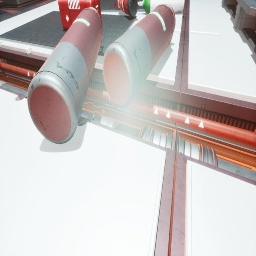0: (138, 0, 185, 14)
FireExtinguisher ]: (114, 0, 138, 18)
FirstAidBox ,: (58, 0, 102, 30)
NitrogenTank ,: (27, 7, 102, 144), (103, 4, 176, 108)
